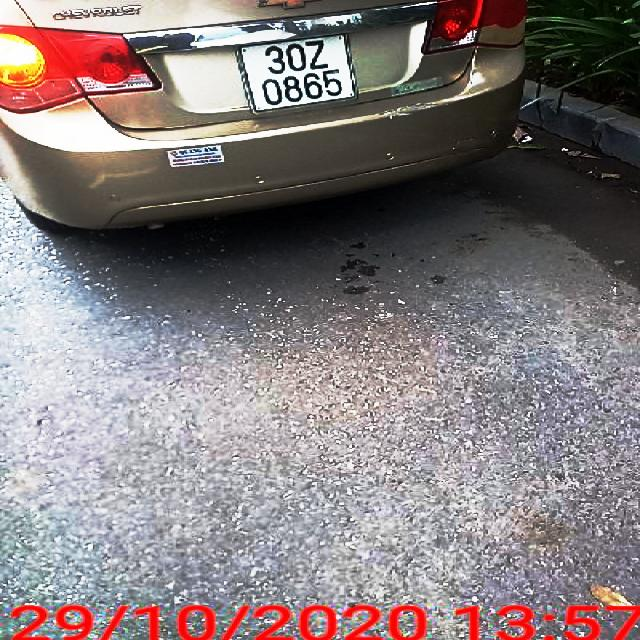license_plate: (236, 34, 355, 115)
